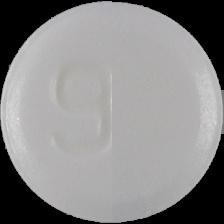68151-0329: (0, 0, 224, 224)
